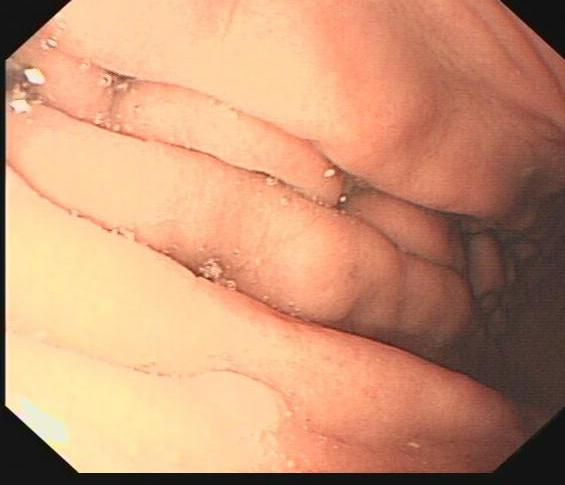Polyp: (172, 356, 308, 436)
